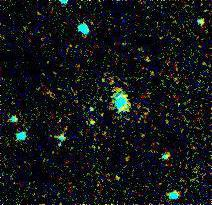star: (76, 100, 106, 130)
